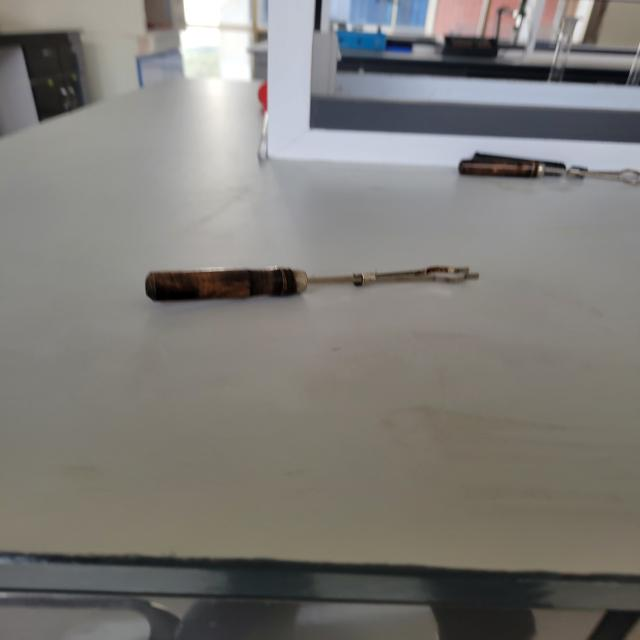TestTube_Holder: (117, 216, 500, 365)
